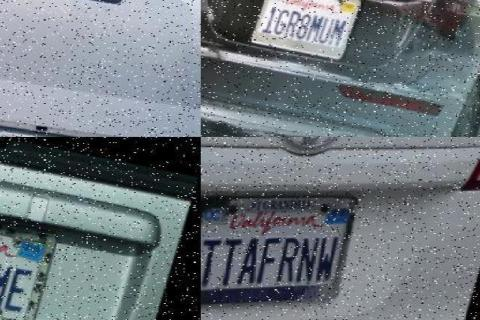LicensePlate: (199, 191, 353, 303), (0, 193, 106, 320), (246, 0, 358, 58)
